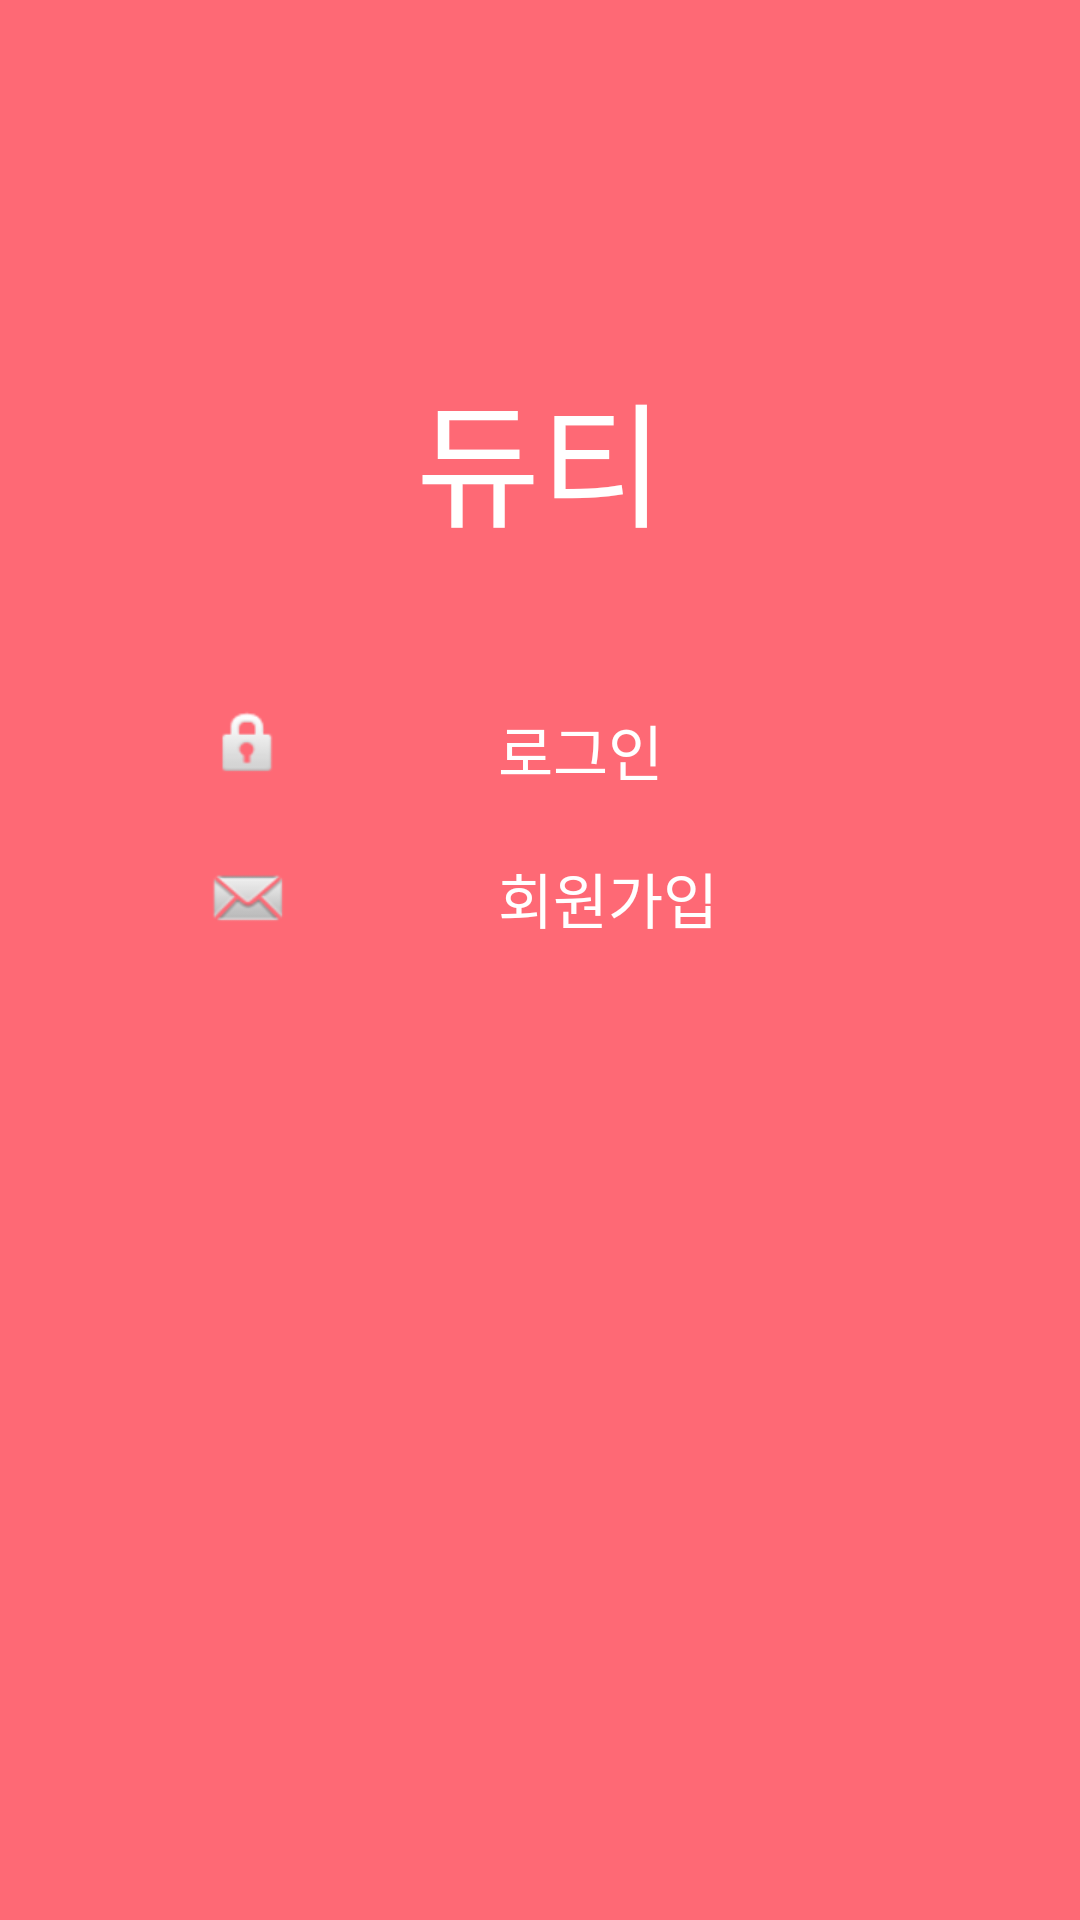

Named icons in this screenshot (1080px×1920px) and their bounding boxes, {"x1": x1, "y1": y1, "x2": x2, "y2": y2}:
lock idle: {"x1": 222, "y1": 713, "x2": 272, "y2": 771}
sym action email: {"x1": 213, "y1": 875, "x2": 282, "y2": 921}
